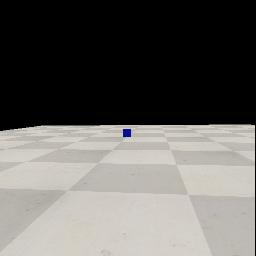box: (123, 129, 131, 137)
